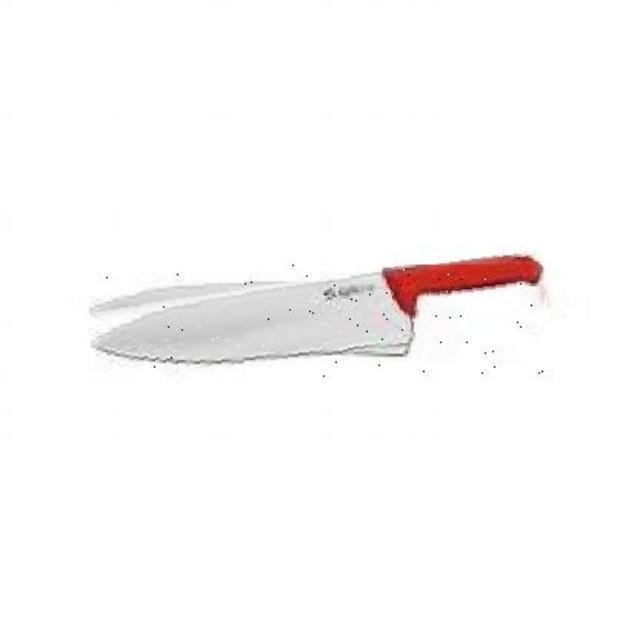Knife: (89, 265, 549, 377)
